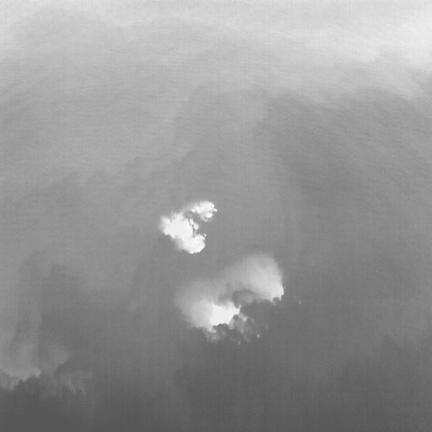flukeprints: (161, 213, 196, 241), (189, 201, 216, 220), (177, 235, 205, 253)
